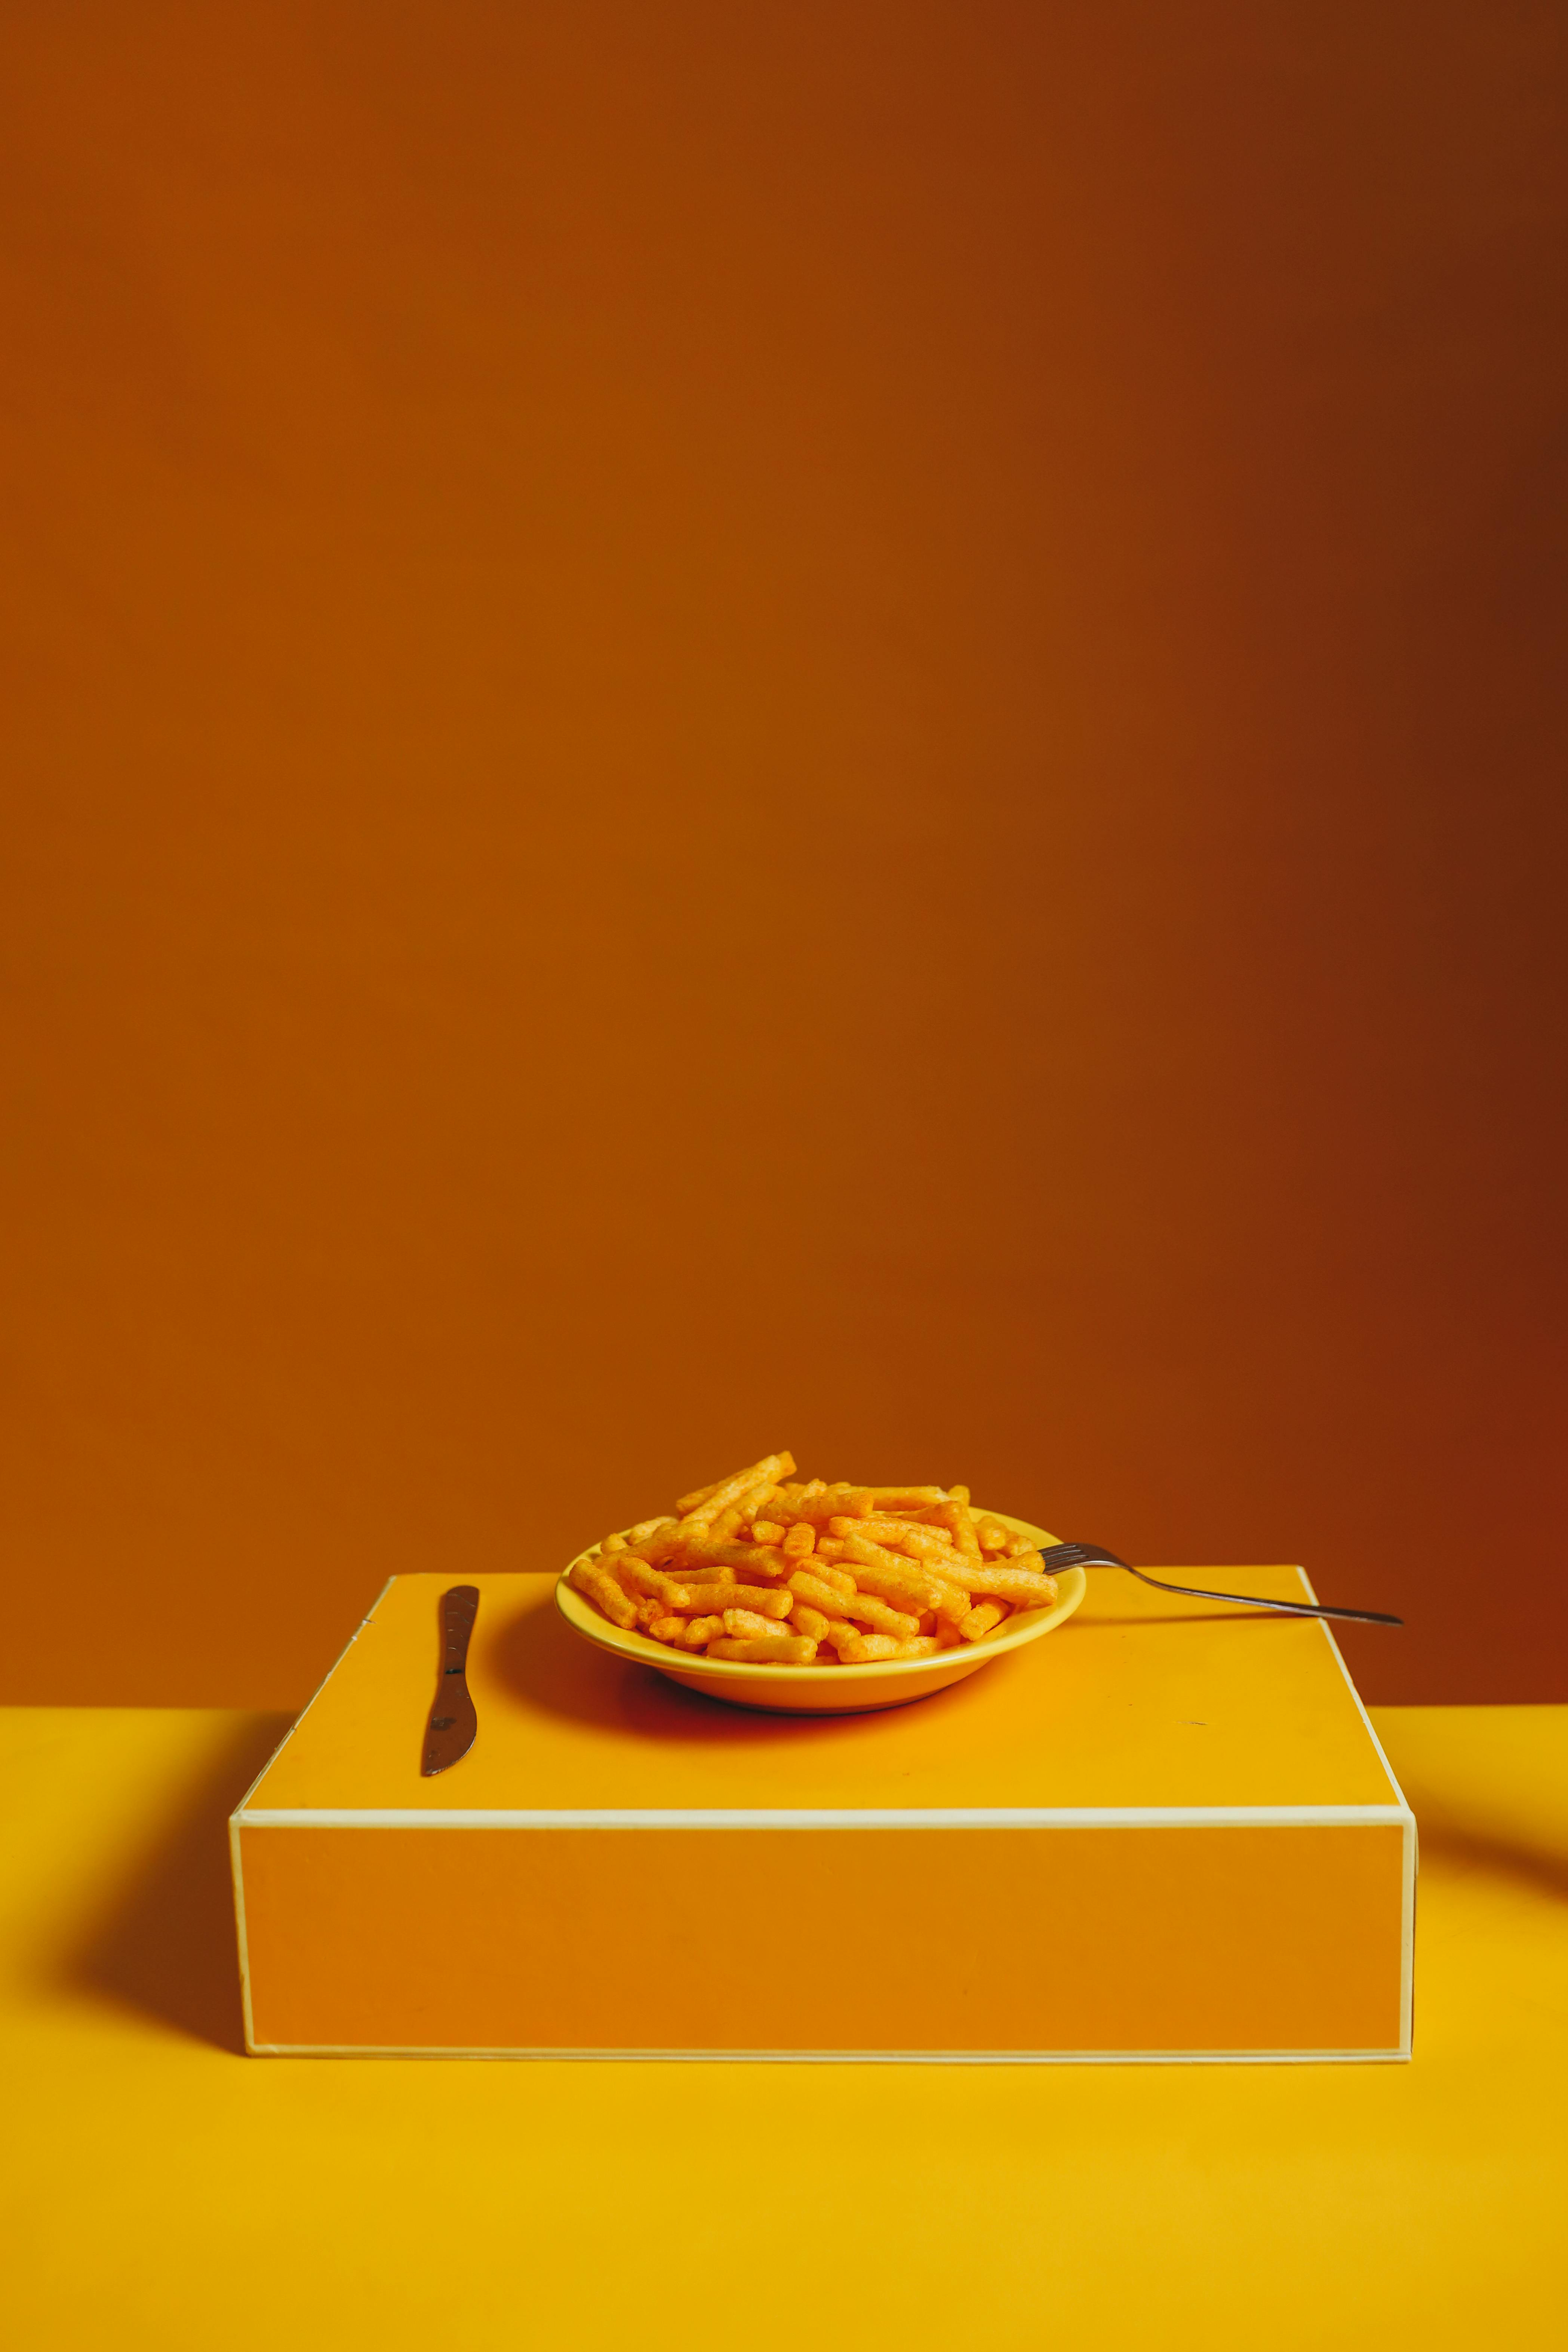chips: (527, 1449, 1155, 1745)
